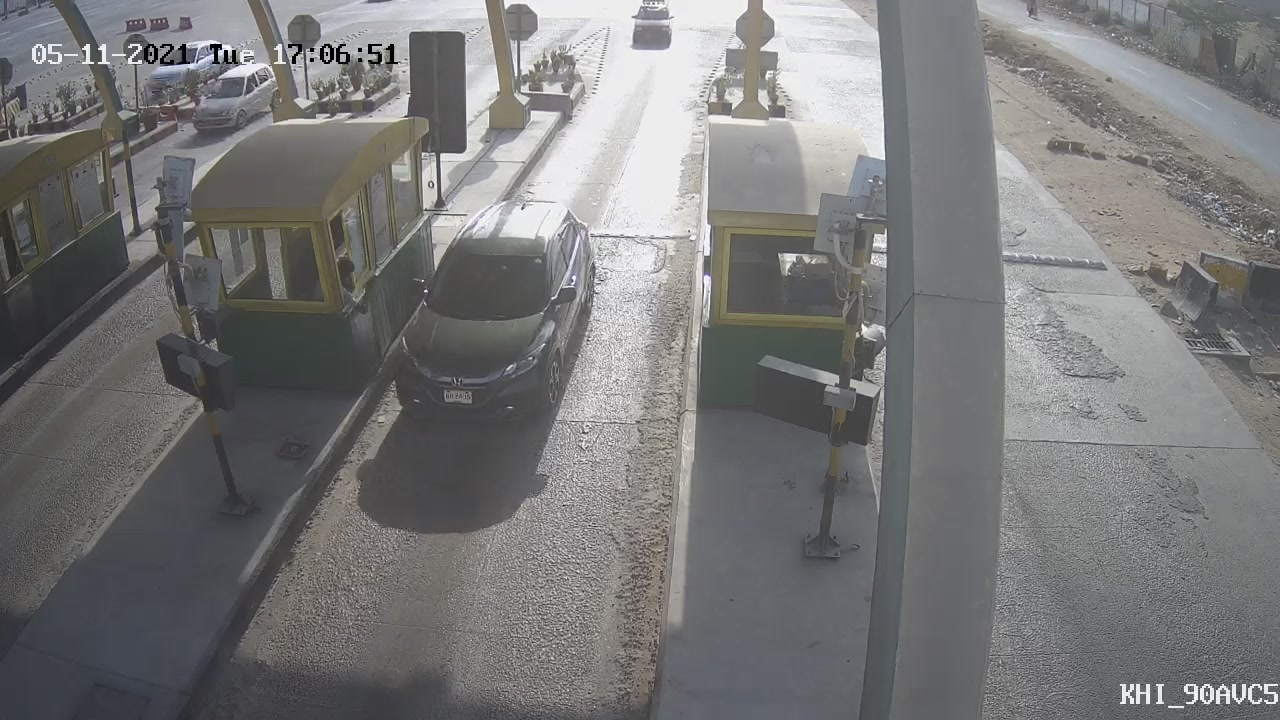F1: (393, 178, 596, 453)
